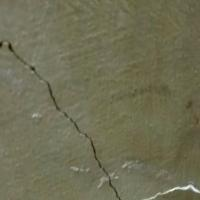crack: (0, 32, 150, 199)
